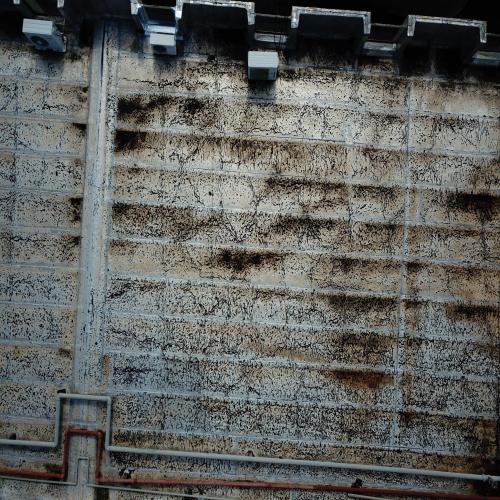conde: (23, 17, 70, 56), (244, 50, 282, 87), (149, 33, 181, 59)
